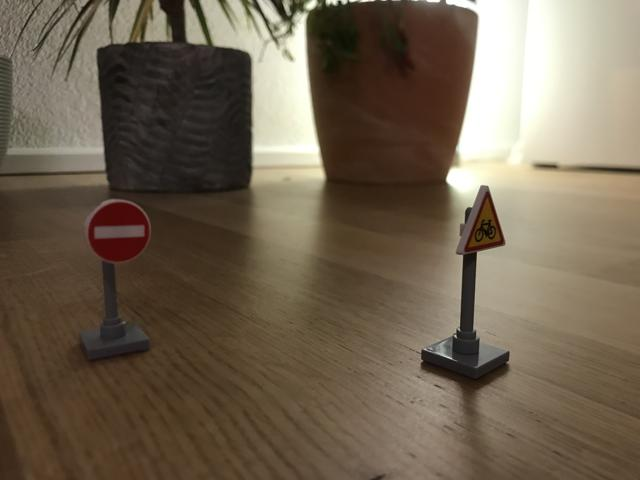radfahrer: (456, 184, 508, 254)
verbot der einfahrt: (84, 199, 154, 262)
